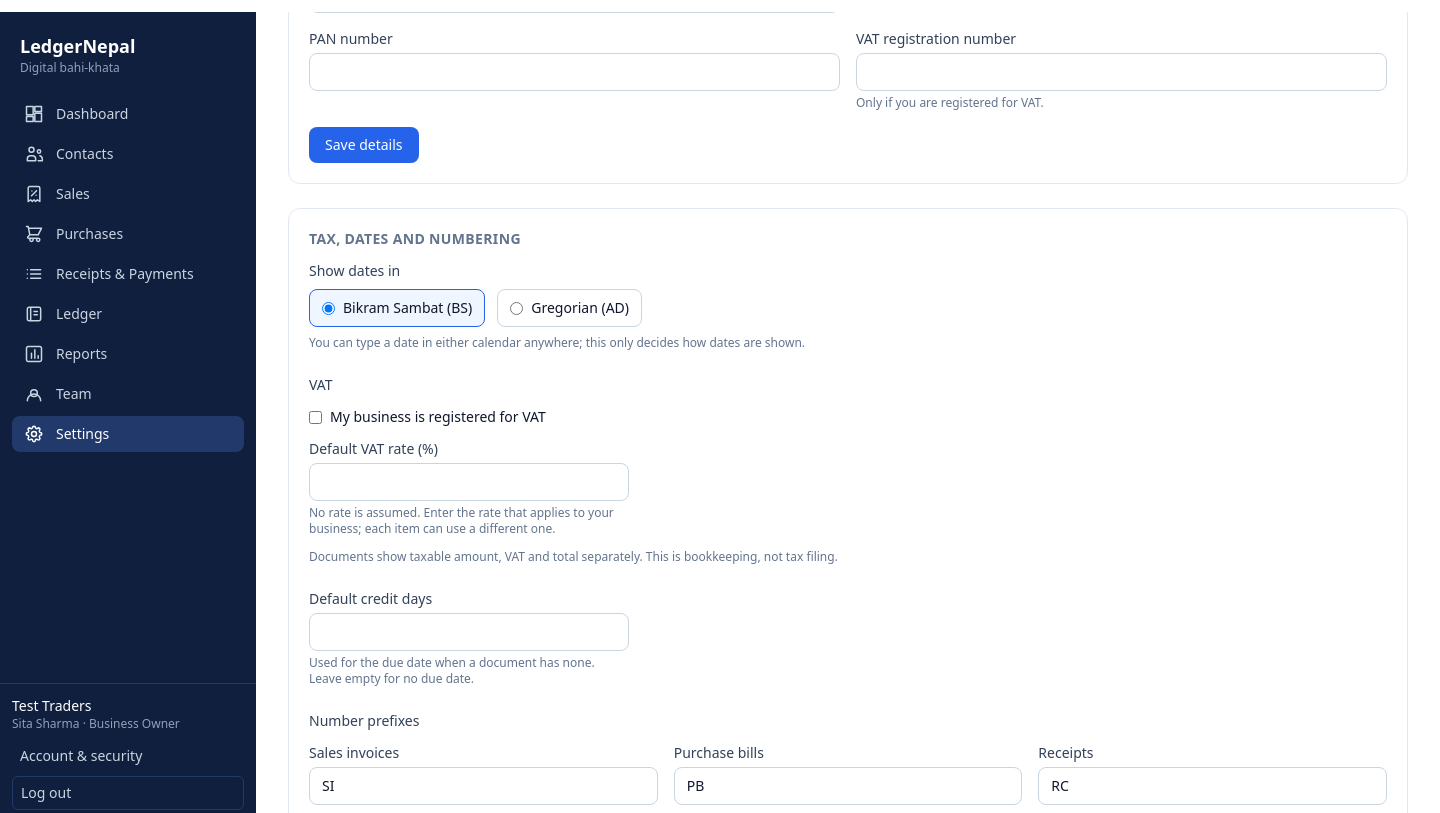
Test: Settings › turns VAT on with a rate, sets credit days and a prefix, and sends it all in one go
(page scrolled)
Click the checkbox labelled "My business is registered for VAT" at (316, 417), box 309,410 -> 322,424
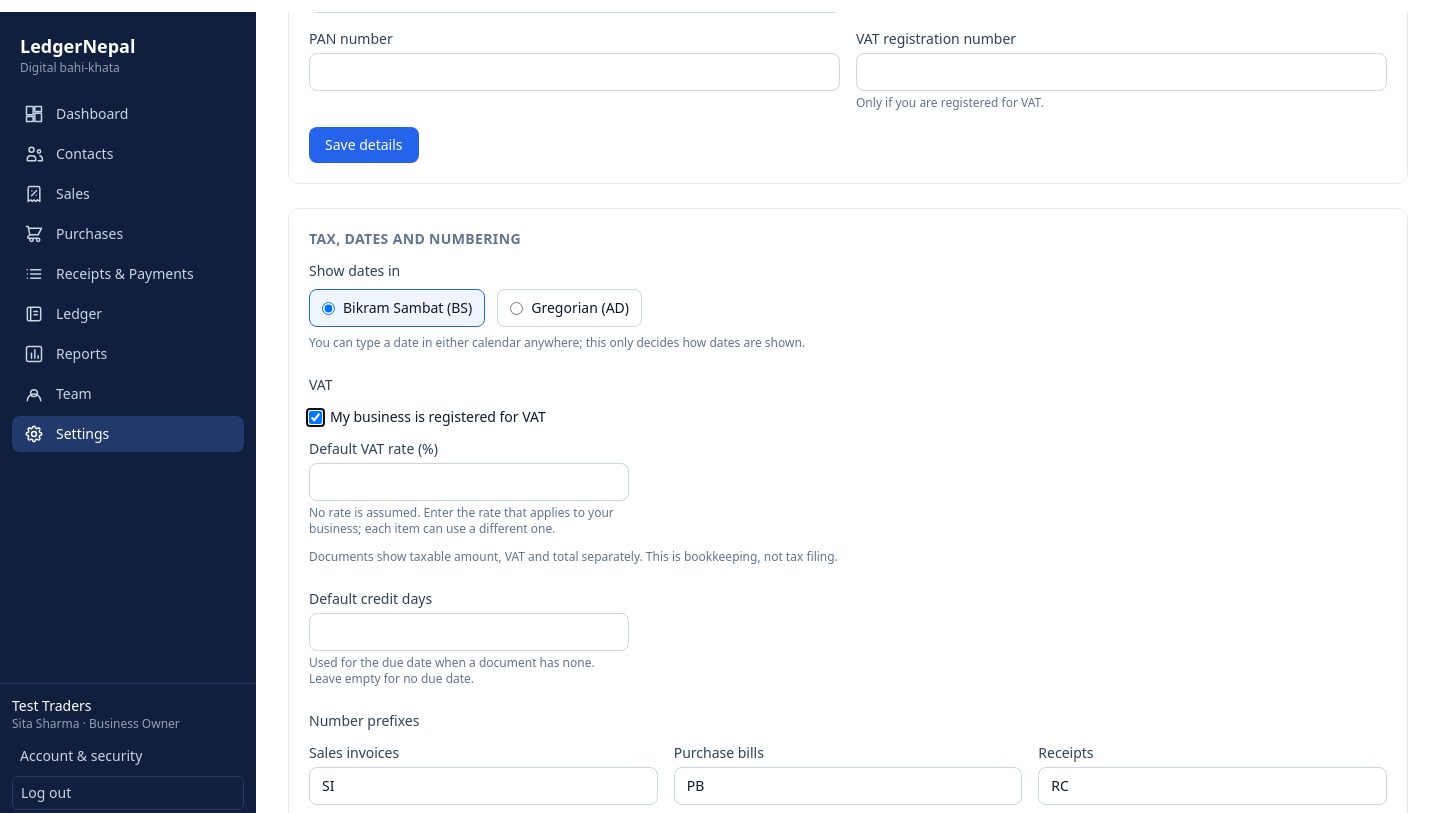
Type "13" into the field labelled "Default VAT rate (%)" at (469, 482), box 309,463 -> 629,501
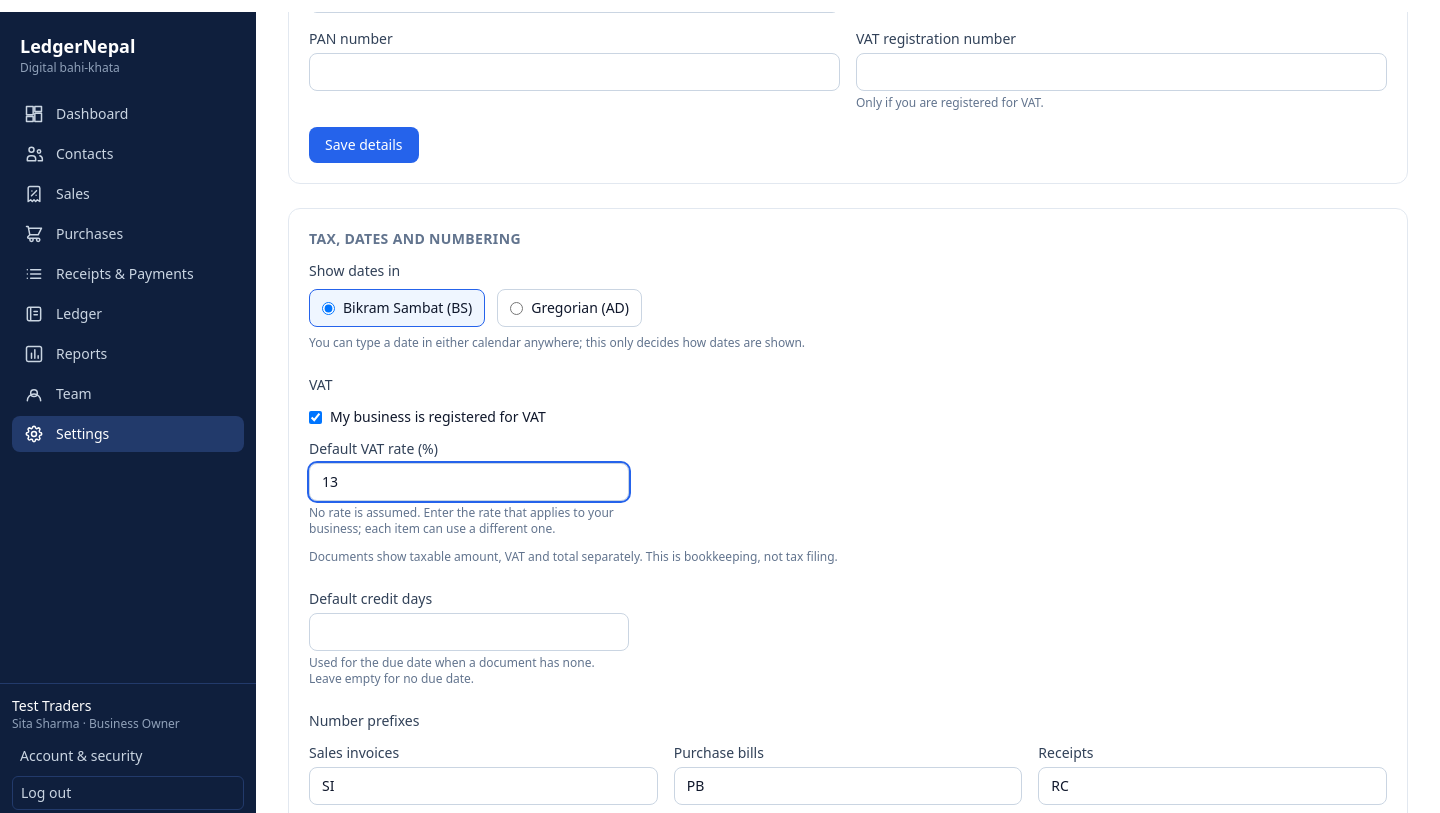
Type "45" into the field labelled "Default credit days" at (469, 632), box 309,613 -> 629,651
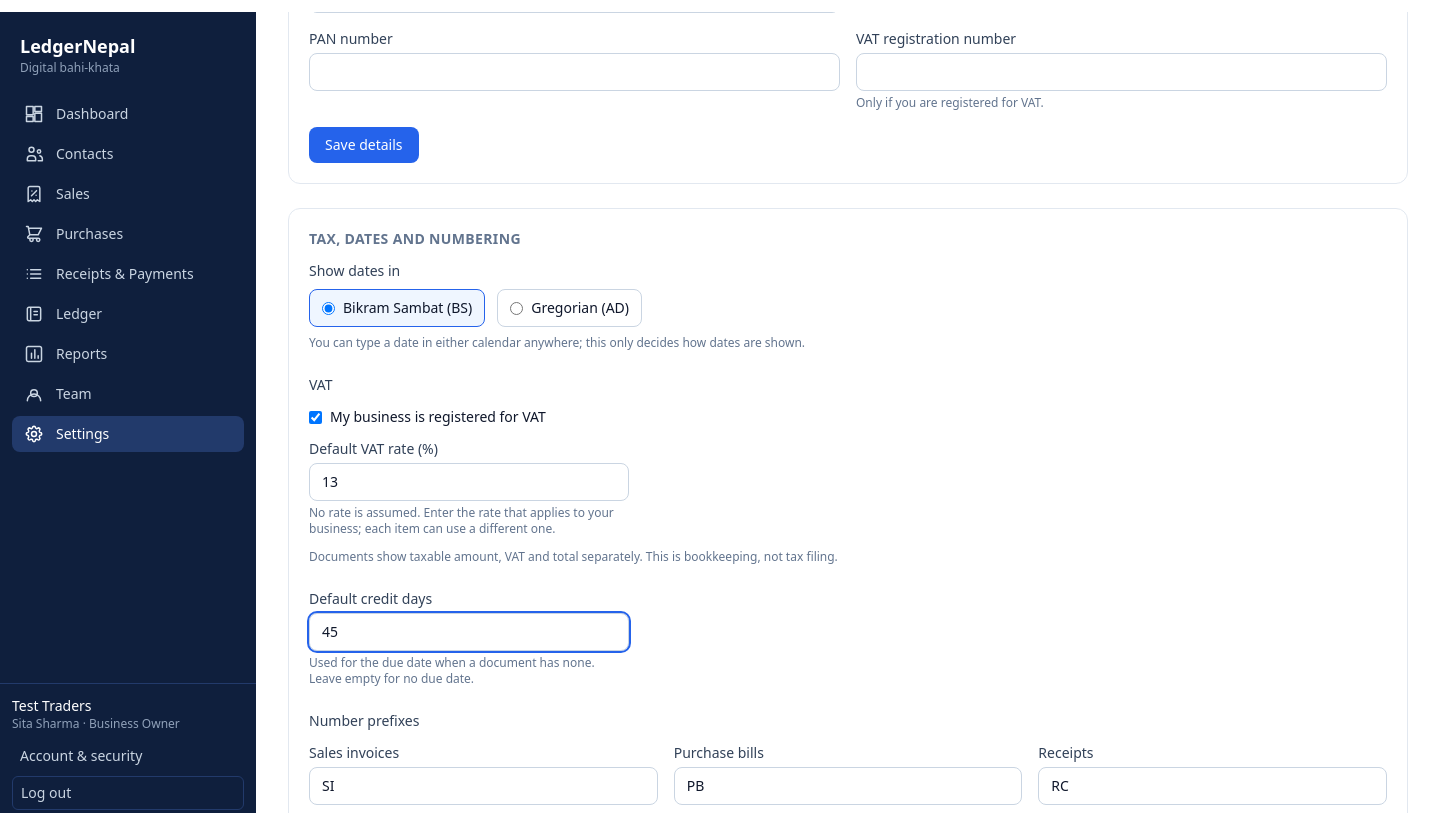
Replace the text in the field labelled "Sales invoices" with "INV" at (483, 786), box 309,767 -> 658,805
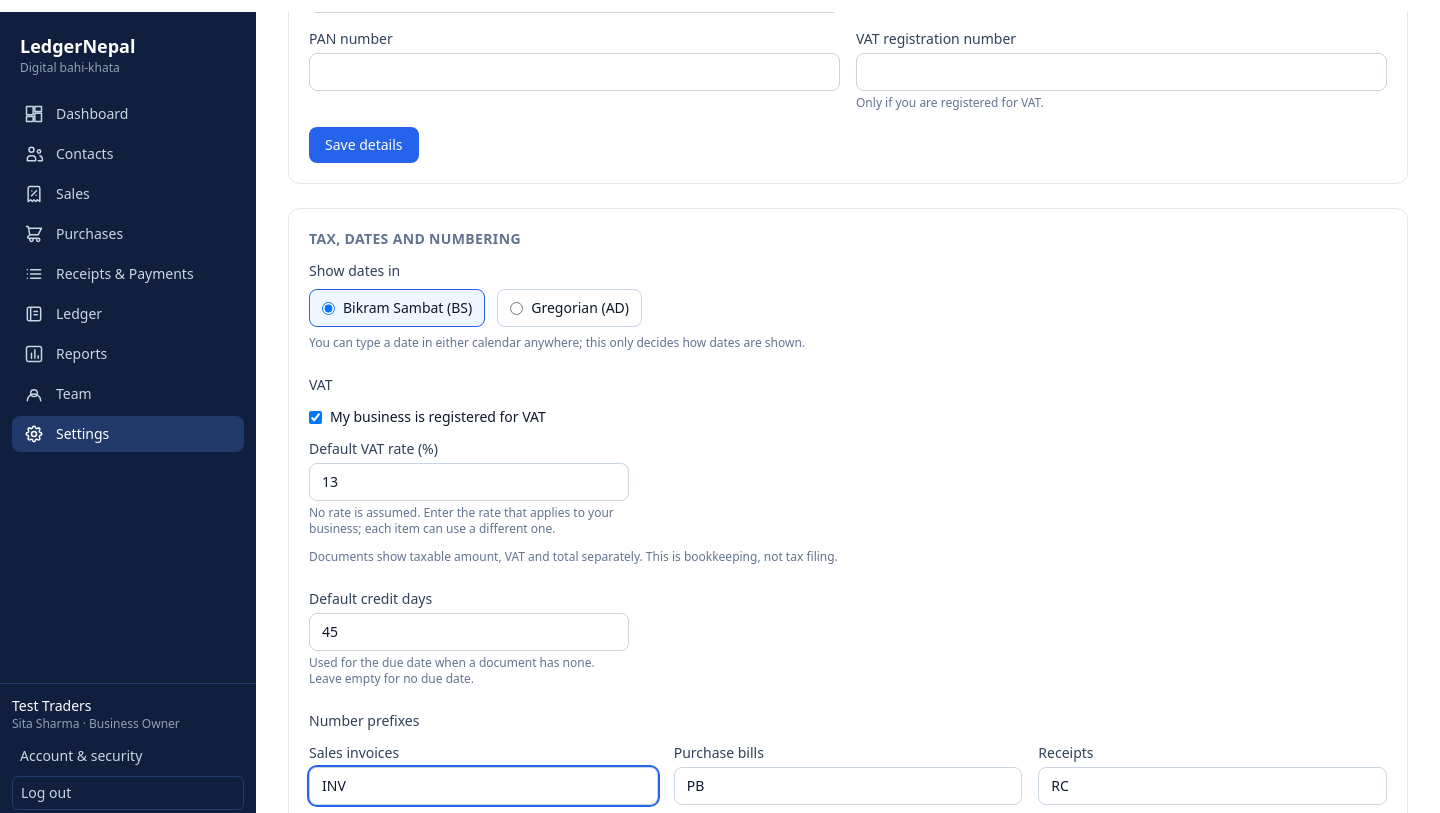
Click the radio button labelled "Gregorian (AD)" at (517, 308), box 510,302 -> 523,314
(page scrolled)
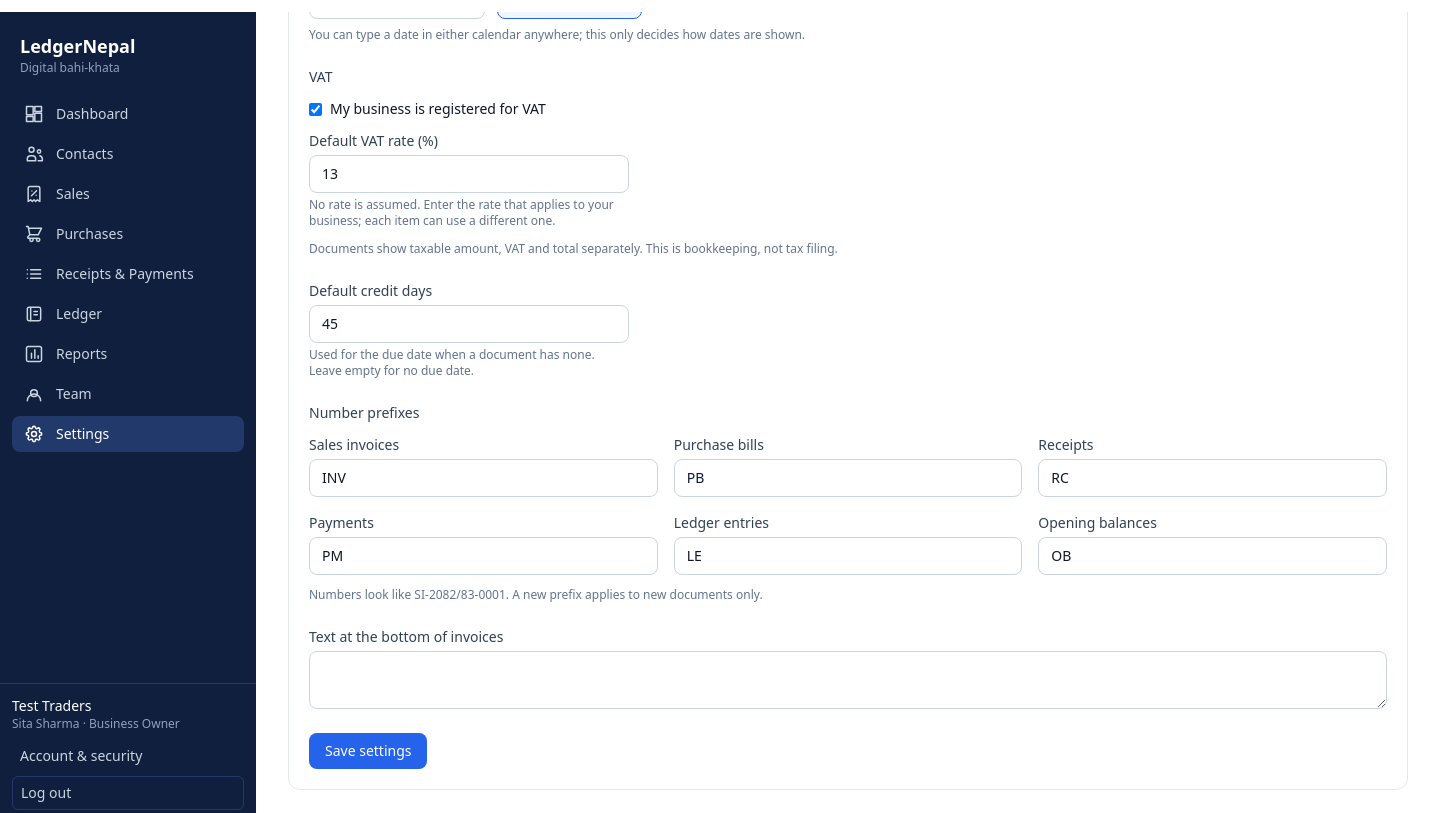
Click the button "Save settings" at (368, 751), box 309,733 -> 428,769
(page scrolled)
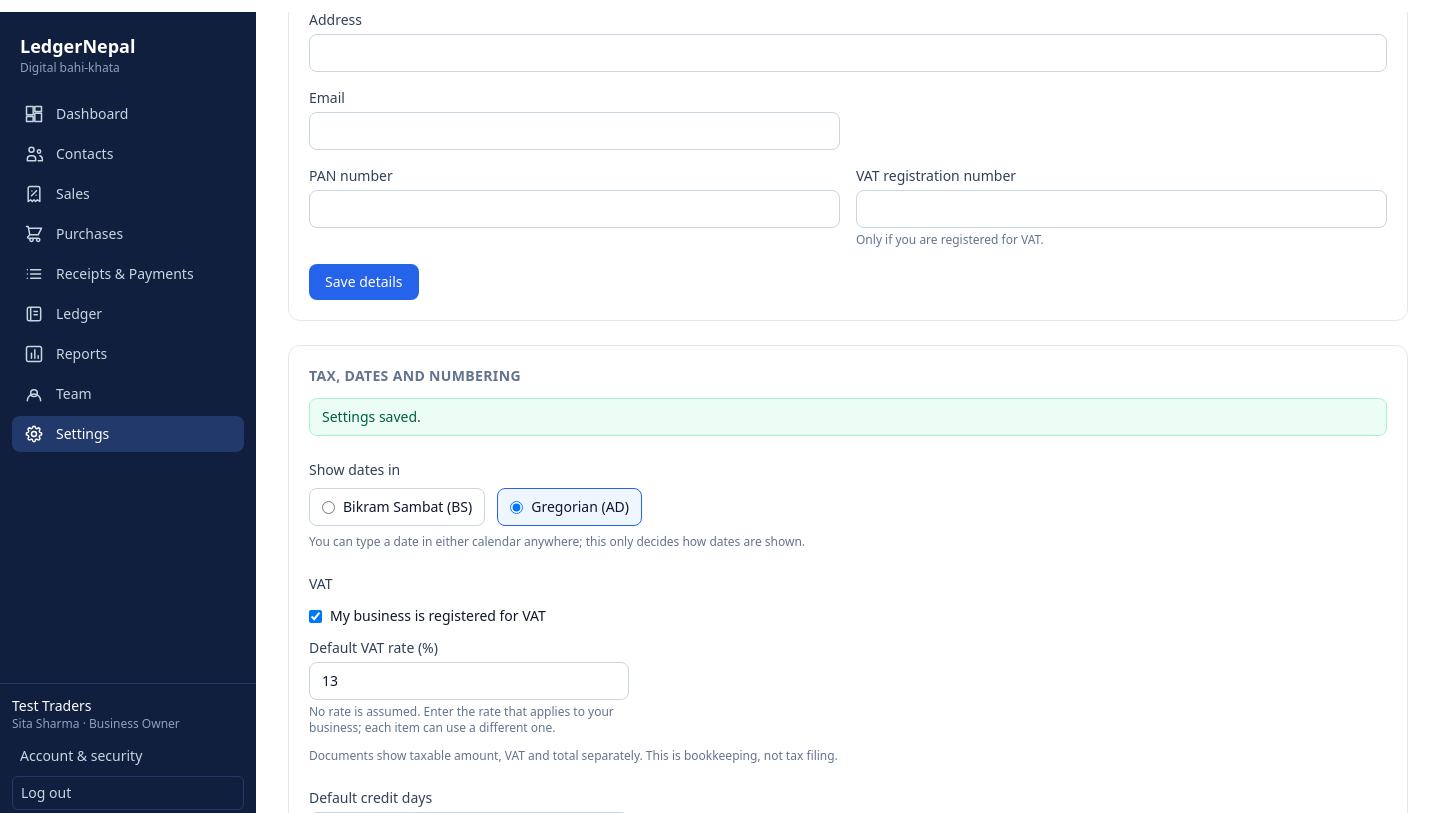
Now the text "Settings saved." is shown, box 309,398 -> 1387,436
